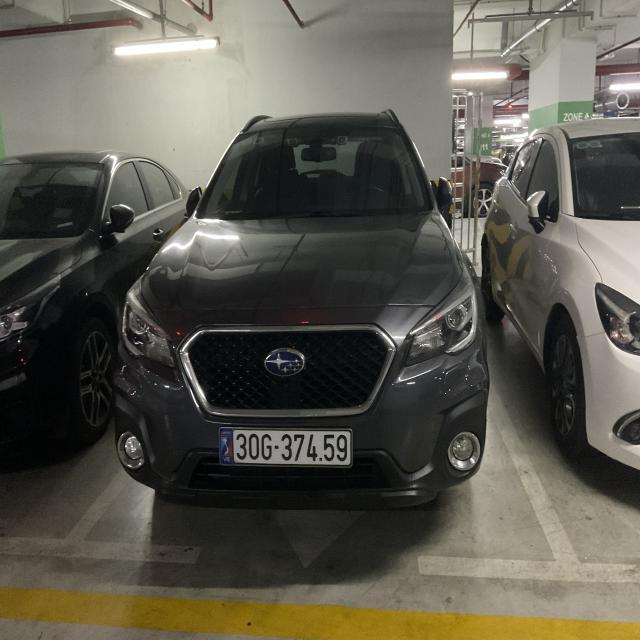license: (218, 426, 353, 467)
